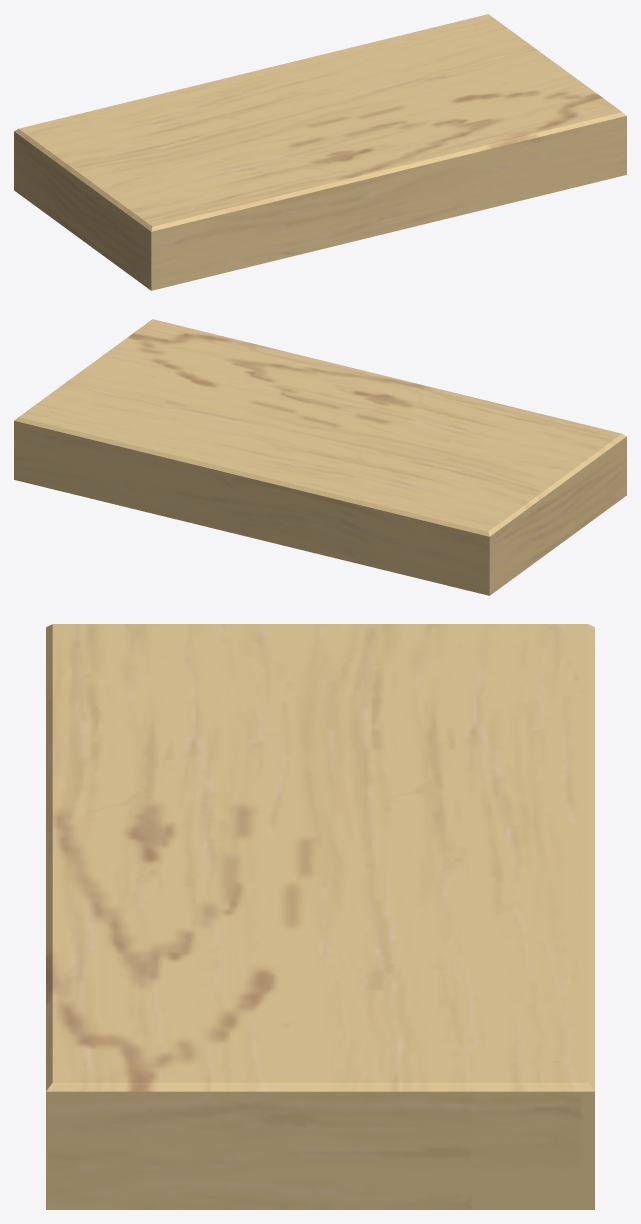
Rendered from Manaita_Short.fbx.
3 views of the same model, one above another, from view 1: azimuth 30°, elevation 25°; view 2: azimuth 150°, elevation 25°; view 3: azimuth 270°, elevation 25° (orthographic). The views are drawn at different scales.
Visible parts, largest first — view 1: Manaita_Short; view 2: Manaita_Short; view 3: Manaita_Short.
Boxes of the visible parts, <box> form: Manaita_Short: <box>14,14,626,290</box>; Manaita_Short: <box>14,319,626,595</box>; Manaita_Short: <box>46,624,594,1209</box>.
Size of the model in its own units: 1200 by 150 by 600.
1 material, 1 textured.
